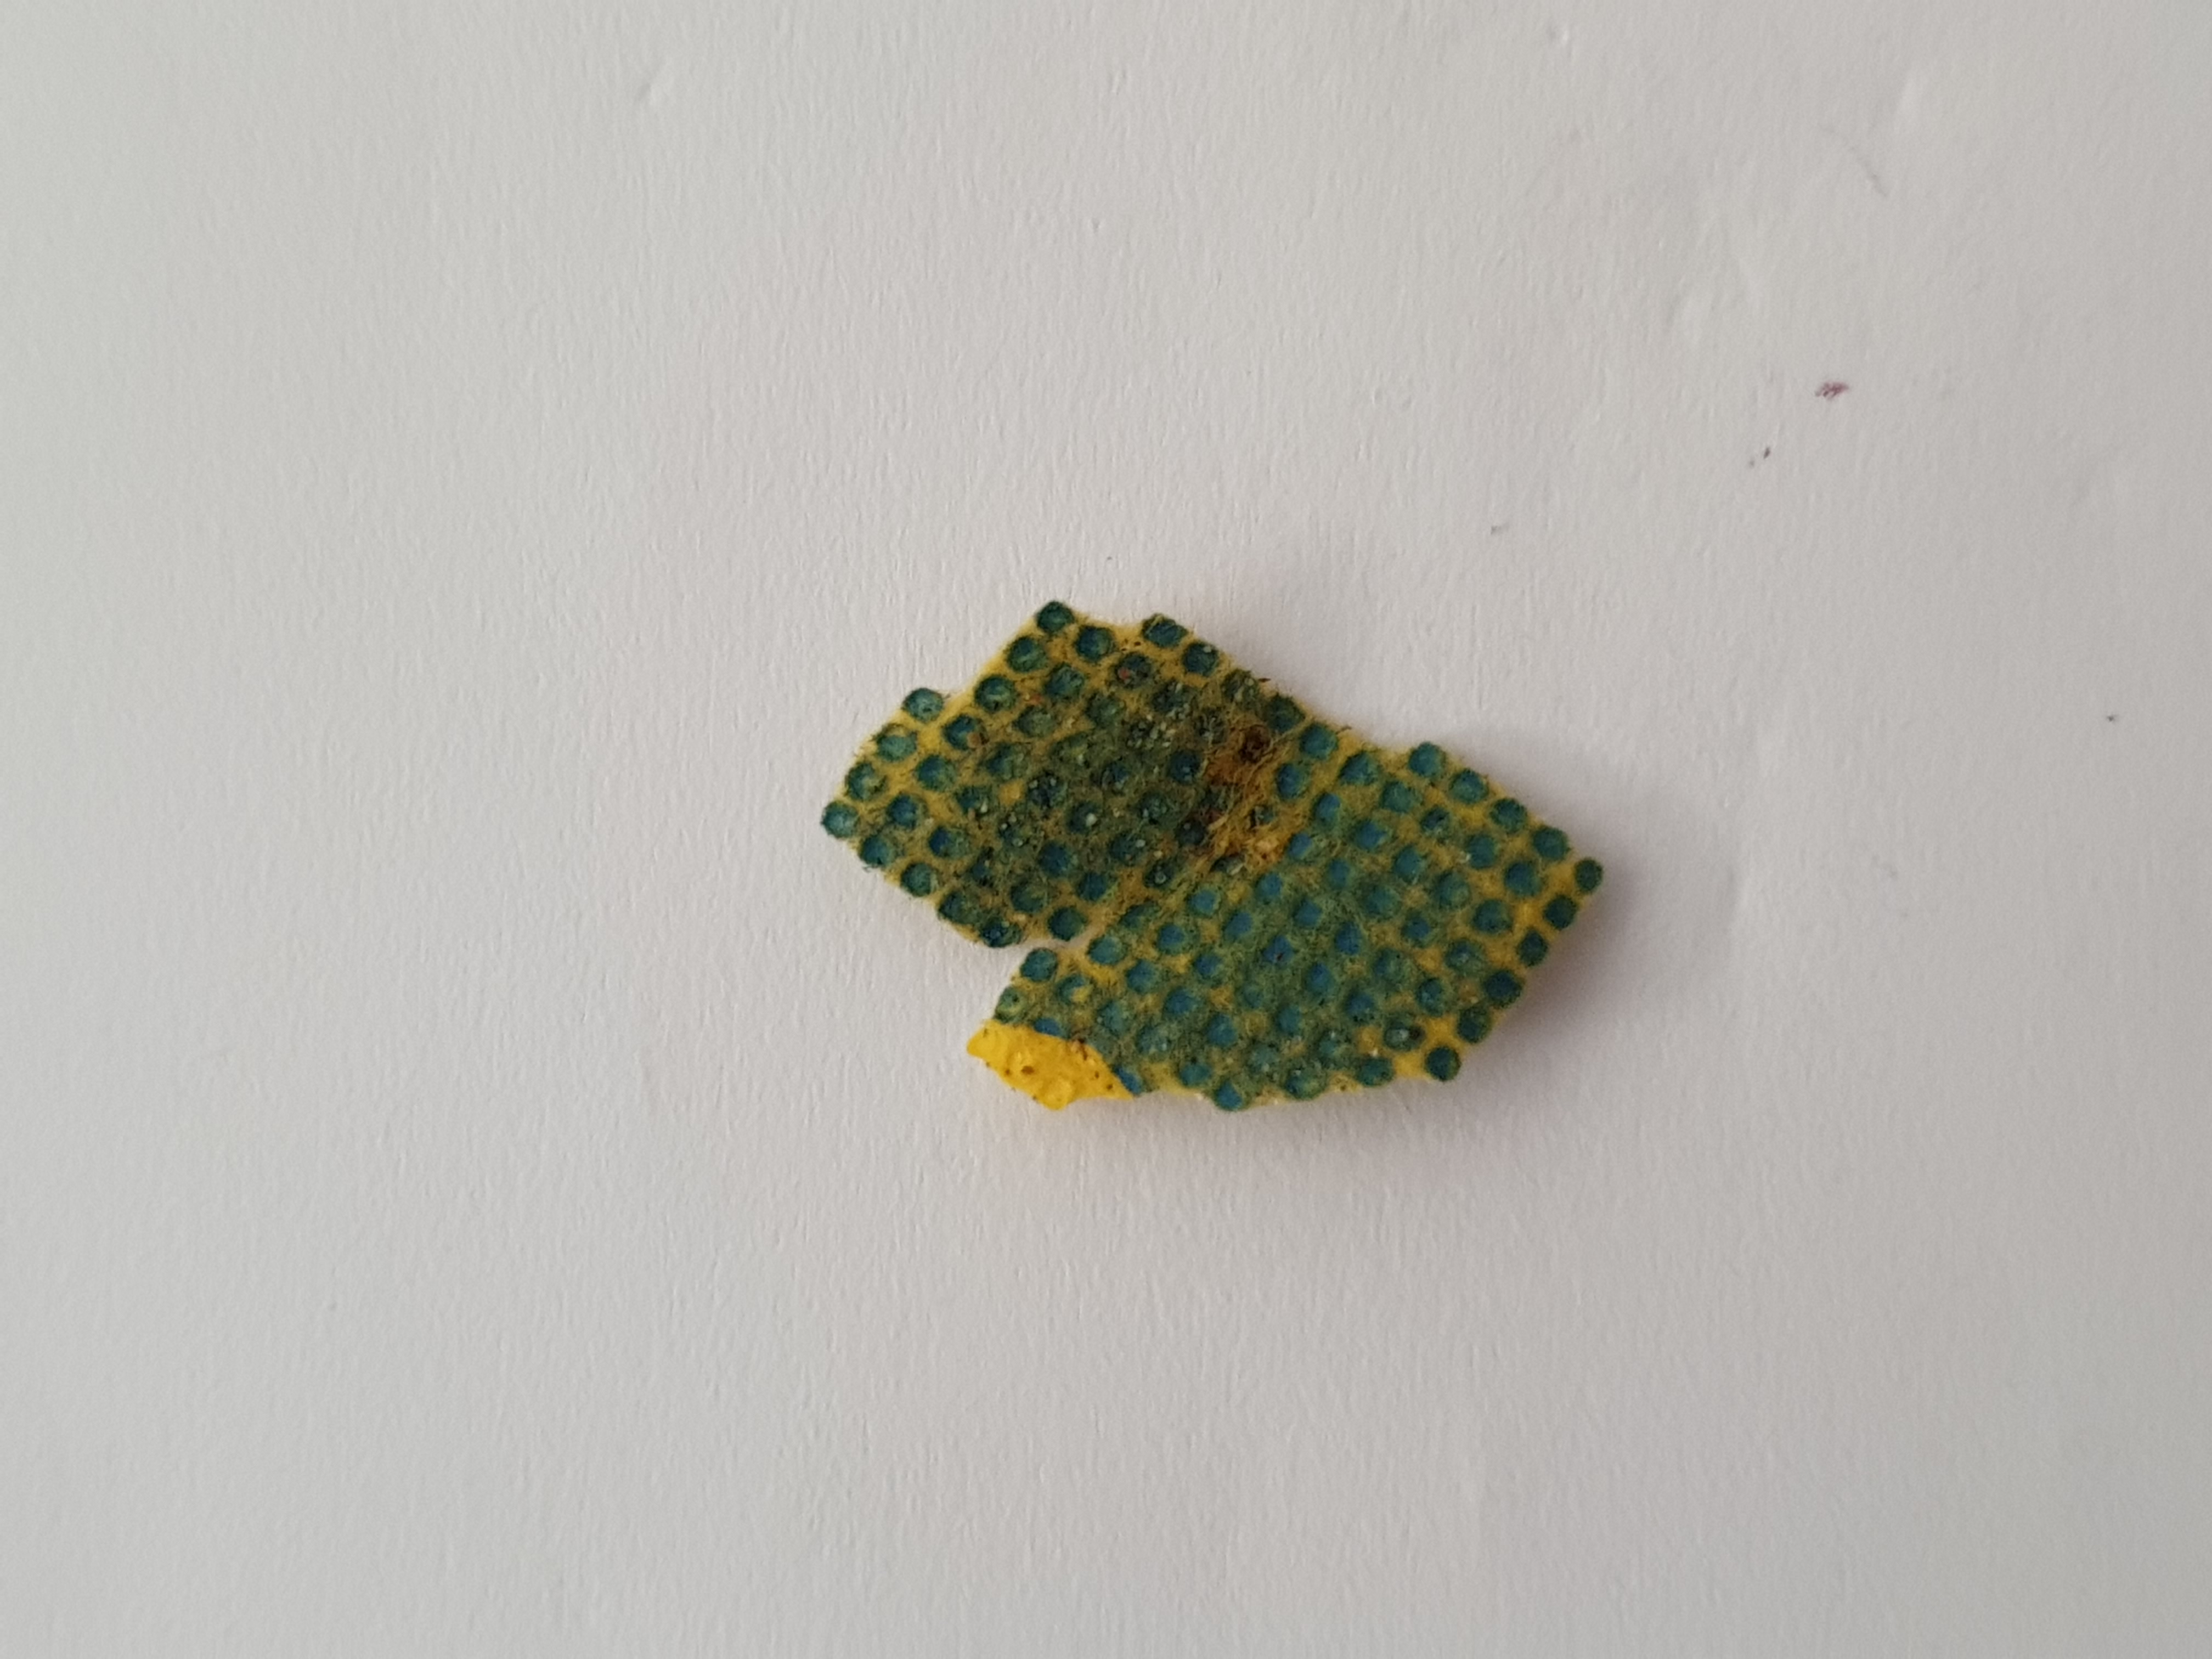plastic: (754, 587, 1620, 1133)
